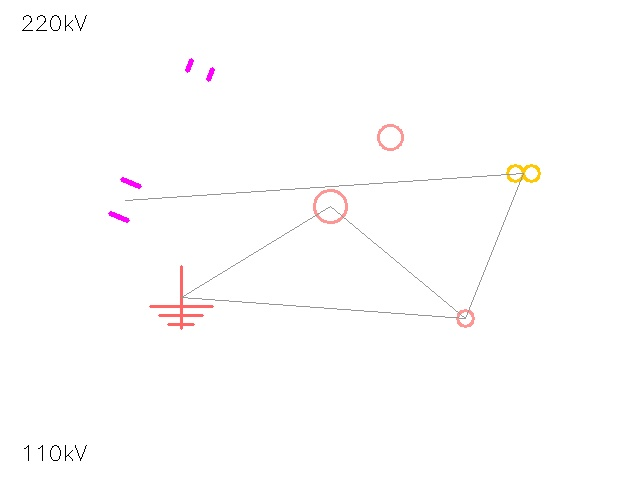capacitor: (95, 170, 155, 230), (182, 52, 218, 88)
current_transformer: (297, 173, 363, 239)
disconnect_switch: (365, 112, 415, 162)
feeder_terminal: (448, 301, 482, 335)
ground: (150, 266, 212, 328)
transformer_2w: (503, 153, 543, 193)
